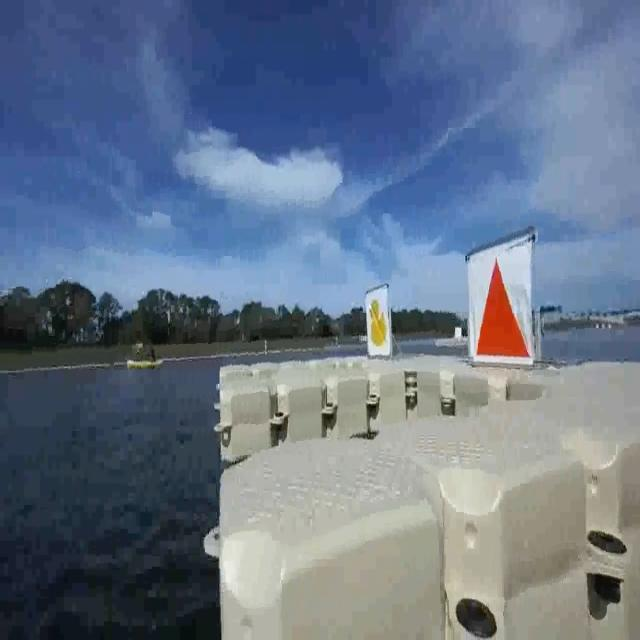red-dot: (466, 250, 533, 364)
yellow-duck: (363, 288, 392, 362)
